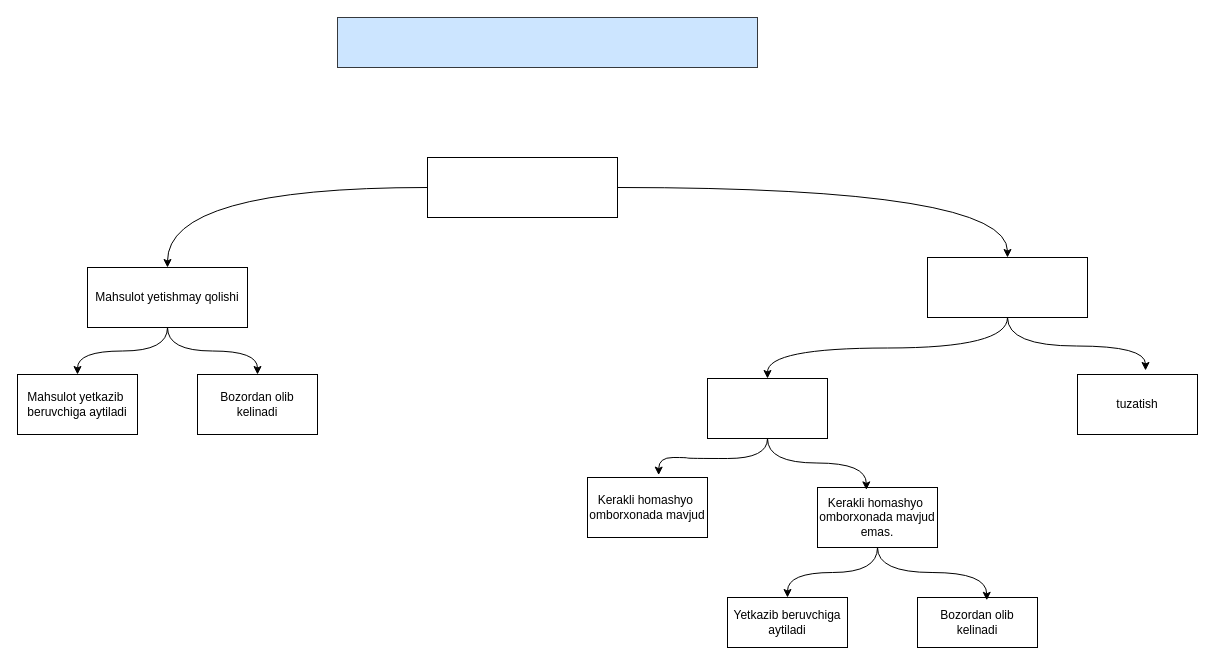
The diagram is 1215 pixels wide and 665 high, and some of its shapes have lost their labels. Each missing label, with the box of its shape:
almashtirish: (706, 378, 828, 438)
Muammo: (426, 156, 618, 218)
Muammo turlari: (336, 16, 758, 68)
texnik xizmat ko`rsatilishi: (926, 256, 1088, 318)
